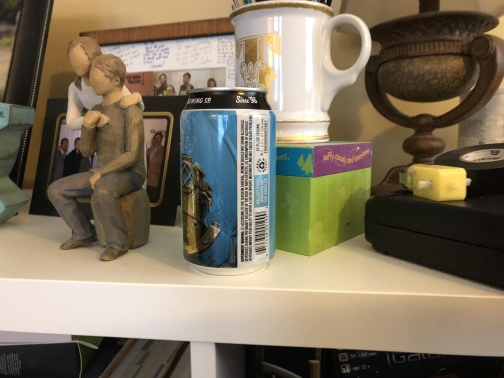can: (177, 86, 279, 279)
